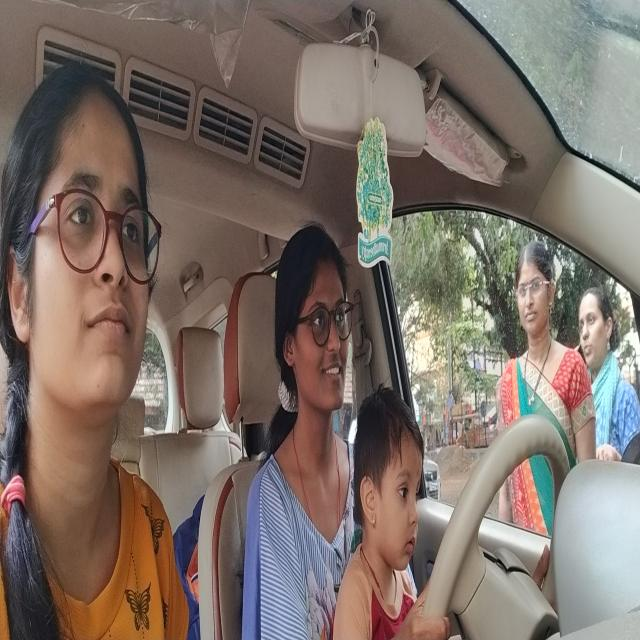child: (352, 382, 428, 579)
person: (1, 48, 165, 466), (271, 215, 355, 430)
